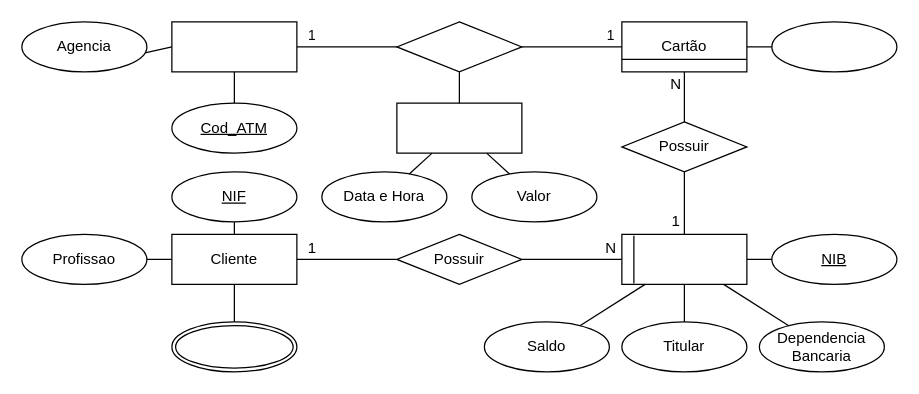
This 919x394 diagram has some shape labels left out. The centre of each missing label's shape, as x and y in pixels:
"ATM" belongs at (x=234, y=46).
"Conta" belongs at (x=684, y=258).
"Morada" belongs at (x=234, y=346).
"Movimentar" belongs at (x=459, y=46).
"Movimentos" belongs at (x=459, y=127).
"N_Cartao" belongs at (x=834, y=46).
